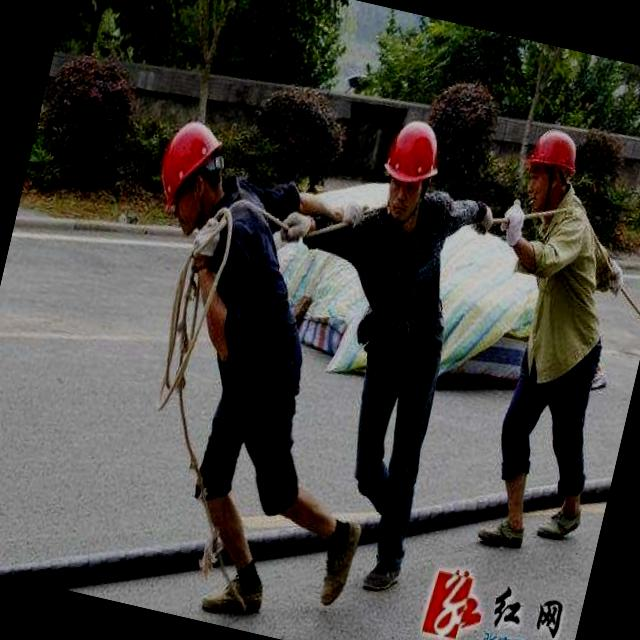helmet: (150, 114, 240, 227), (374, 108, 454, 195), (516, 120, 596, 193)
no-vest: (162, 192, 332, 394), (484, 198, 635, 402), (322, 197, 492, 372)
